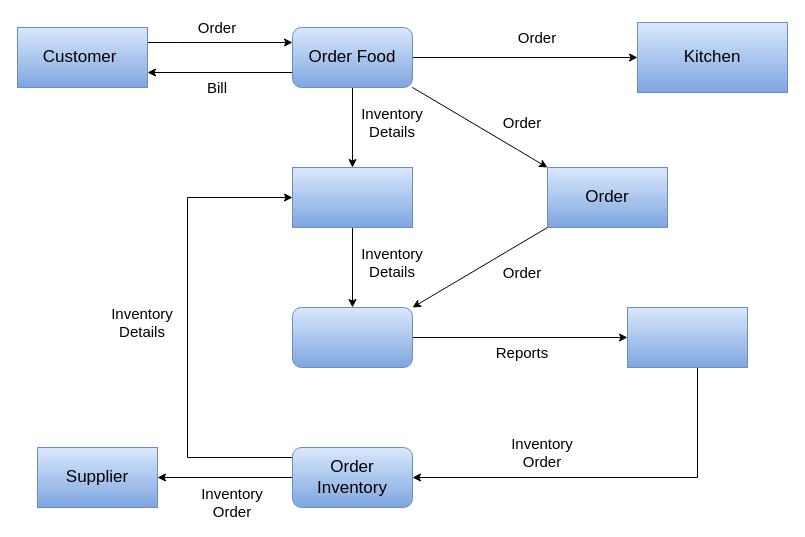
Image size: 805x537. Some labels were removed from this diagram. The shapes that lost their labels are listed below. From the top down, each one's centre as x and y in pixels, then its label:
At point 352,197: "Inventory".
At point 352,337: "Generate Reports".
At point 687,337: "Manager".
